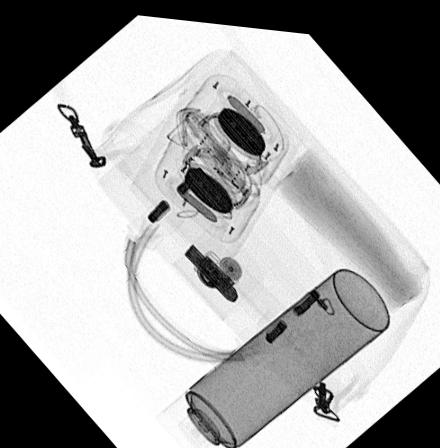Sprayer: (151, 257, 391, 448)
